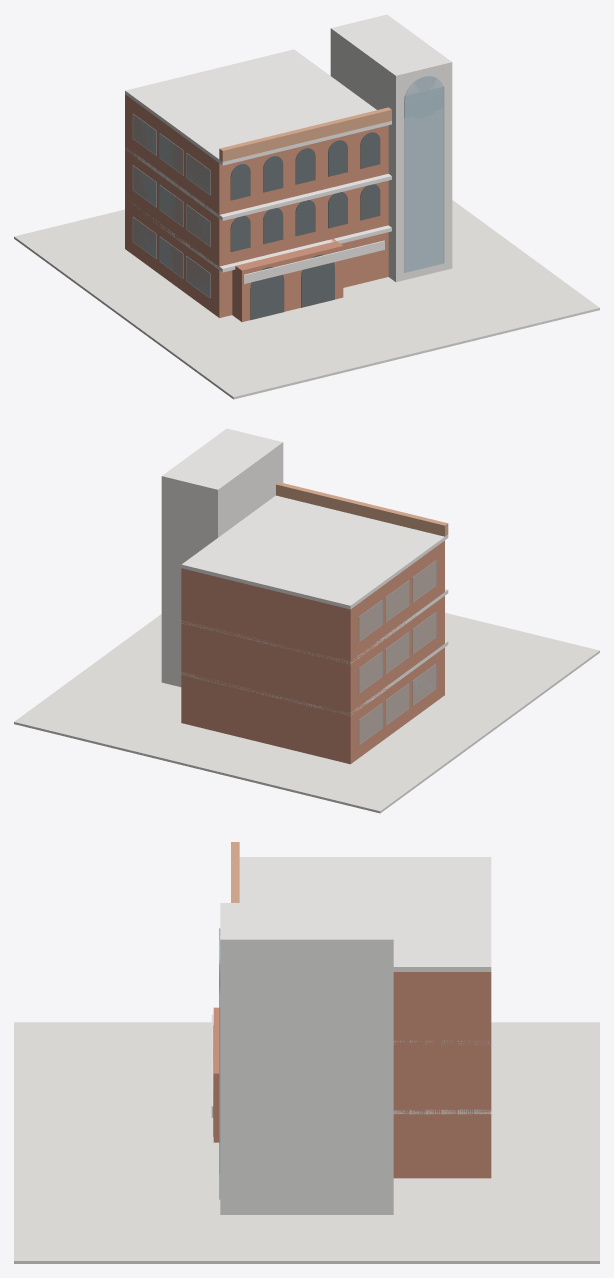
File: dhalarpar-madrasa.glb
3 renders of one model, top to bottom at view 1: azimuth 30°, elevation 25°; view 2: azimuth 150°, elevation 25°; view 3: azimuth 270°, elevation 25°, orthographic. The views are drawn at different scales.
Parts seen in each view (by area): view 1: site-site, roof-white, floor-2-brick, floor-0-brick, floor-1-brick, roof-glass, floor-2-interior, floor-1-interior, floor-0-interior, roof-terracotta, floor-2-glass, floor-0-glass (+3 smaller); view 2: site-site, roof-white, floor-2-brick, floor-1-brick, floor-0-brick, roof-terracotta, floor-2-glass, floor-0-glass, floor-1-glass, floor-1-white, floor-2-white; view 3: site-site, roof-white, floor-0-brick, floor-1-brick, floor-2-brick.
Boxes of the visible parts, x1=… form: site-site: x1=14, y1=200, x2=599, y2=399; roof-white: x1=125, y1=14, x2=452, y2=283; floor-2-brick: x1=125, y1=94, x2=388, y2=214; floor-0-brick: x1=125, y1=198, x2=388, y2=321; floor-1-brick: x1=125, y1=146, x2=388, y2=266; roof-glass: x1=404, y1=76, x2=444, y2=272; floor-2-interior: x1=230, y1=132, x2=380, y2=200; floor-1-interior: x1=230, y1=184, x2=380, y2=252; floor-0-interior: x1=250, y1=254, x2=334, y2=320; roof-terracotta: x1=219, y1=107, x2=391, y2=161; floor-2-glass: x1=132, y1=114, x2=210, y2=195; floor-0-glass: x1=132, y1=217, x2=210, y2=298; site-site: x1=14, y1=613, x2=599, y2=813; roof-white: x1=161, y1=428, x2=448, y2=686; floor-2-brick: x1=181, y1=540, x2=444, y2=660; floor-1-brick: x1=181, y1=596, x2=444, y2=712; floor-0-brick: x1=181, y1=647, x2=444, y2=764; roof-terracotta: x1=276, y1=482, x2=448, y2=536; floor-2-glass: x1=358, y1=560, x2=436, y2=641; floor-0-glass: x1=358, y1=663, x2=436, y2=744; floor-1-glass: x1=358, y1=612, x2=436, y2=693; floor-1-white: x1=181, y1=640, x2=448, y2=716; floor-2-white: x1=181, y1=589, x2=448, y2=664; site-site: x1=14, y1=1022, x2=599, y2=1263; roof-white: x1=211, y1=857, x2=491, y2=1214; floor-0-brick: x1=213, y1=1007, x2=491, y2=1178; floor-1-brick: x1=393, y1=1040, x2=491, y2=1109; floor-2-brick: x1=393, y1=972, x2=491, y2=1040.
Bounding box in the file's own units: 26 × 14.15 × 27.
